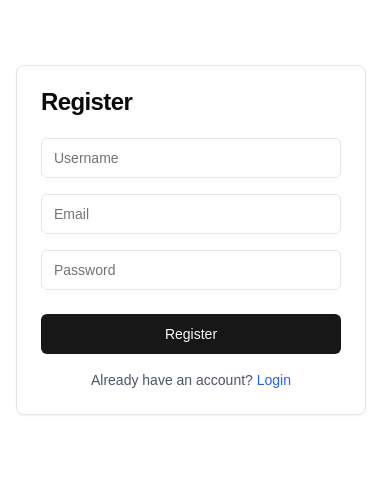
Scenario: RegisterPage › validates password uppercase requirement
The width and height of the screenshot is (383, 481).
Type "password123" into the password field with placeholder "Password". click: {"x": 191, "y": 270}
box: x1=41 y1=250 x2=341 y2=290
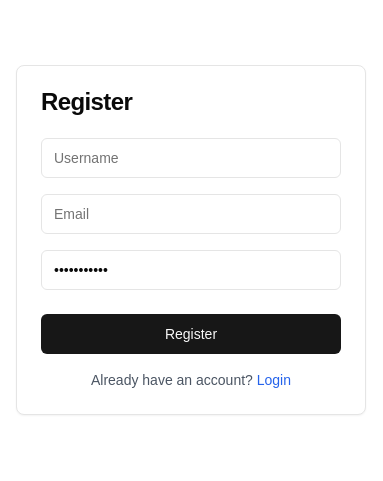
Click the button "Register". click: {"x": 191, "y": 334}
box: x1=41 y1=314 x2=341 y2=354
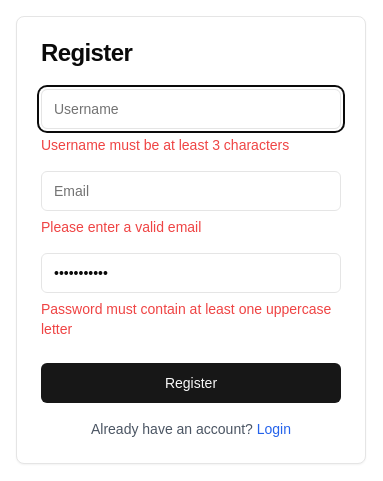
expect the text "Password must contain at least one uppercase letter" is shown: met, box x1=41 y1=299 x2=341 y2=339
